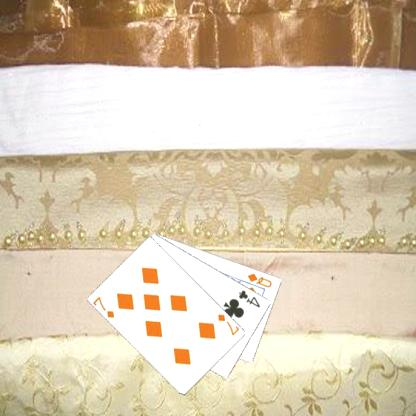4C: (236, 288, 261, 308)
7D: (215, 311, 240, 337), (91, 293, 116, 319)
QD: (245, 270, 273, 288)
